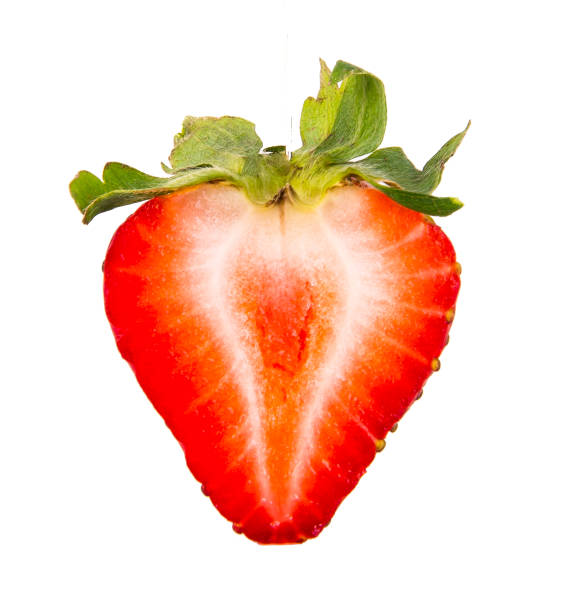Fresa: (95, 140, 466, 554)
